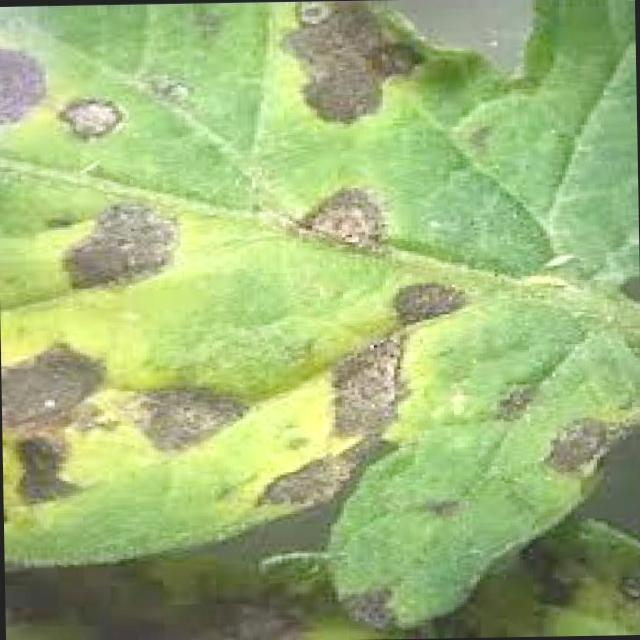Septoria_Blight: (4, 4, 606, 533)
